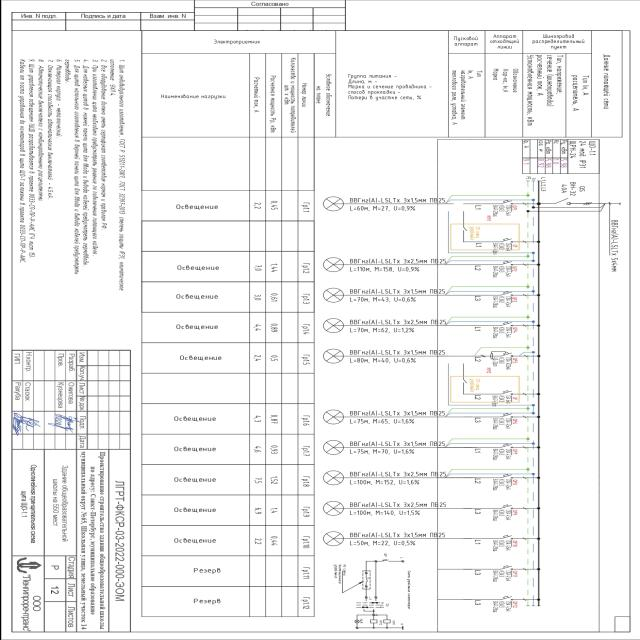-: (568, 140, 586, 170), (491, 326, 511, 341), (491, 296, 511, 310), (491, 395, 511, 409), (491, 570, 511, 584), (491, 540, 511, 554), (491, 448, 511, 462), (491, 509, 511, 523), (490, 357, 510, 371), (490, 243, 510, 257), (491, 478, 511, 492), (491, 600, 511, 614), (491, 418, 511, 432), (491, 265, 511, 279), (492, 204, 512, 218), (560, 182, 576, 197)
QF: (496, 292, 526, 298), (496, 322, 526, 328), (497, 260, 527, 266), (496, 238, 526, 244), (496, 200, 526, 206), (496, 596, 526, 602), (496, 565, 526, 571), (497, 534, 527, 540), (496, 504, 526, 510), (496, 474, 526, 480), (496, 413, 526, 419), (496, 391, 526, 396), (496, 444, 526, 449)
QFD: (488, 350, 526, 360)
QS: (550, 197, 592, 206)
